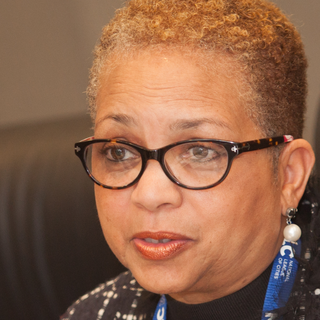eye: (97, 141, 140, 166), (182, 142, 221, 165)
